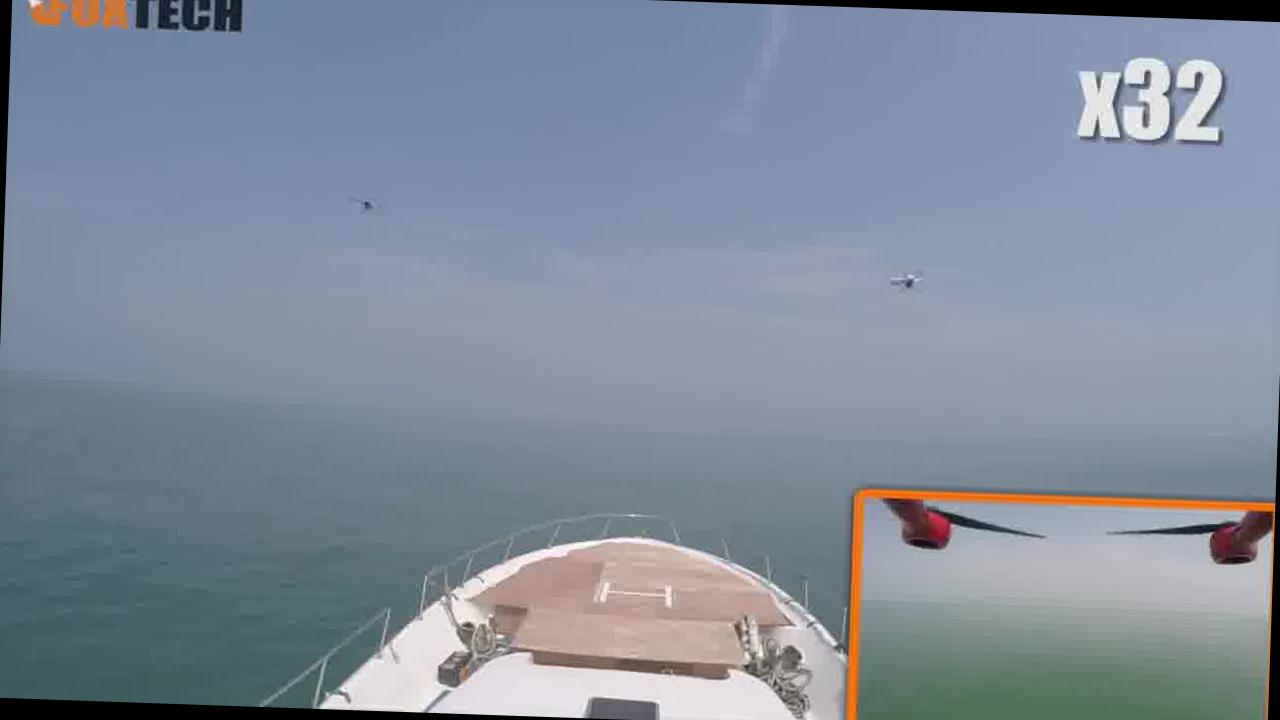drone: (879, 253, 939, 300), (332, 183, 391, 226)
